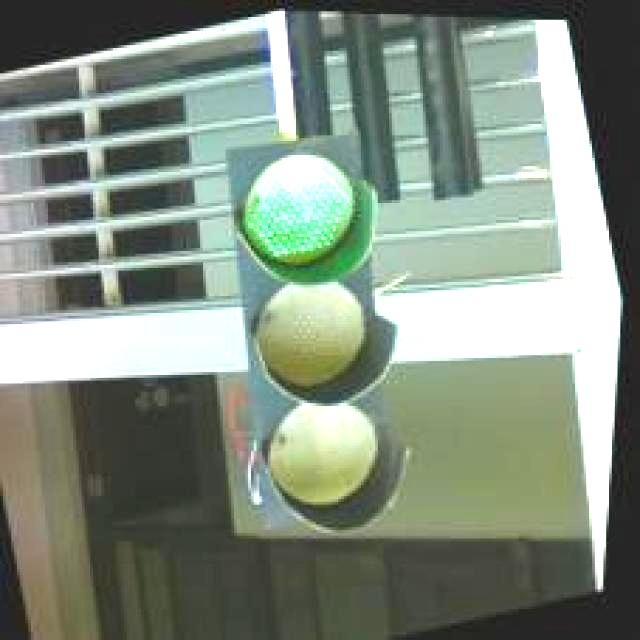Green: (170, 114, 462, 551)
